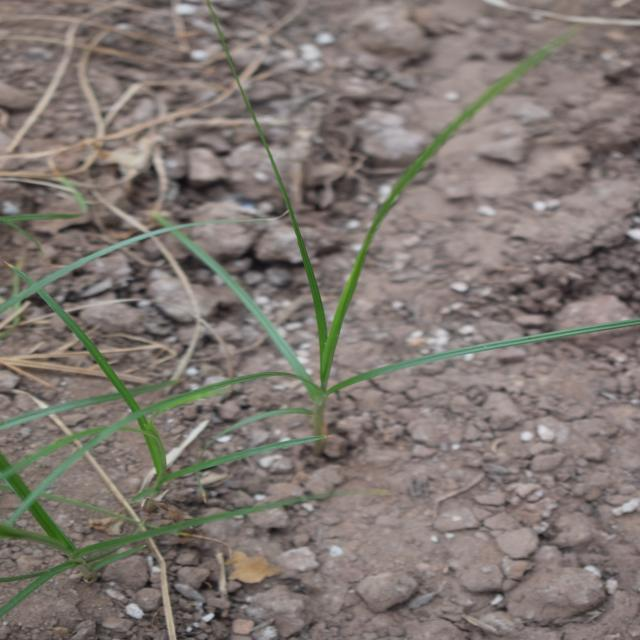sedge: (174, 170, 580, 585)
